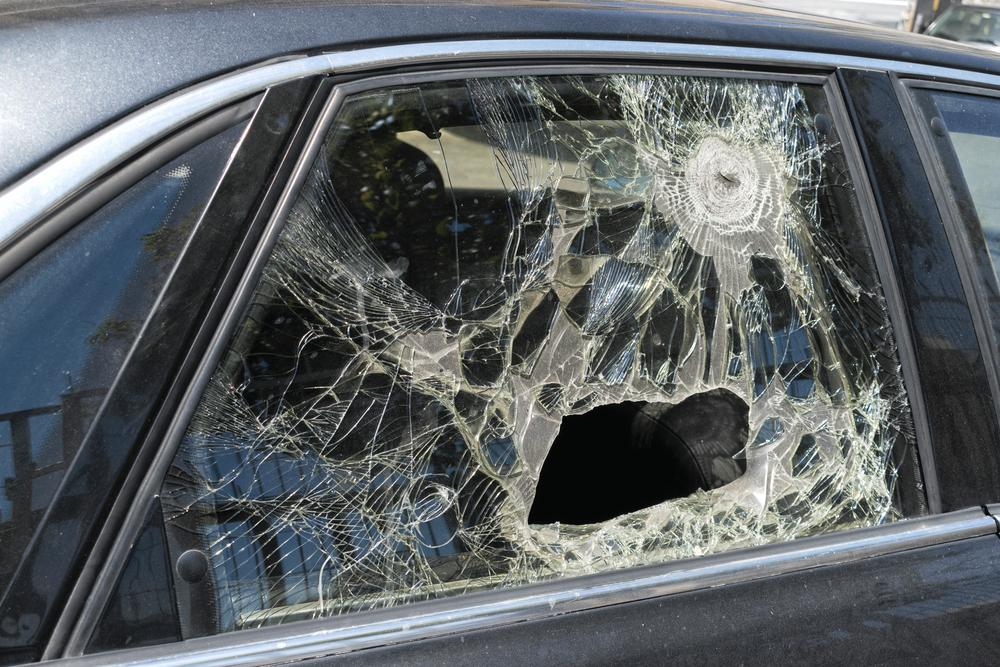glass shatter: (161, 73, 931, 642)
